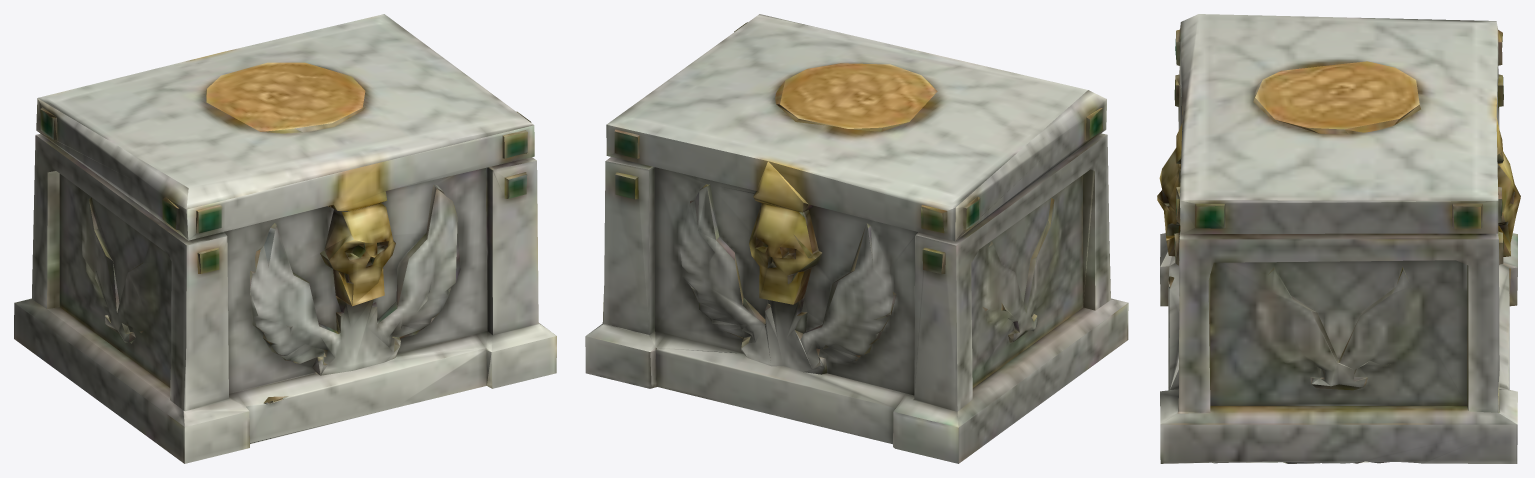
The model's file is obj_chest_noble.glb.
3 renders of one model, left to right at view 1: azimuth 30°, elevation 25°; view 2: azimuth 150°, elevation 25°; view 3: azimuth 270°, elevation 25°, orthographic. The views are drawn at different scales.
Parts seen in each view (by area): view 1: Noble chest; view 2: Noble chest; view 3: Noble chest.
Boxes of the visible parts, left/top/right/bottom form: Noble chest: left=14, top=14, right=556, bottom=463; Noble chest: left=585, top=14, right=1128, bottom=463; Noble chest: left=1157, top=14, right=1520, bottom=463.
Bounding box in the file's own units: 1.91 × 1.28 × 1.53.
Materials: 1 (1 with a texture image).
